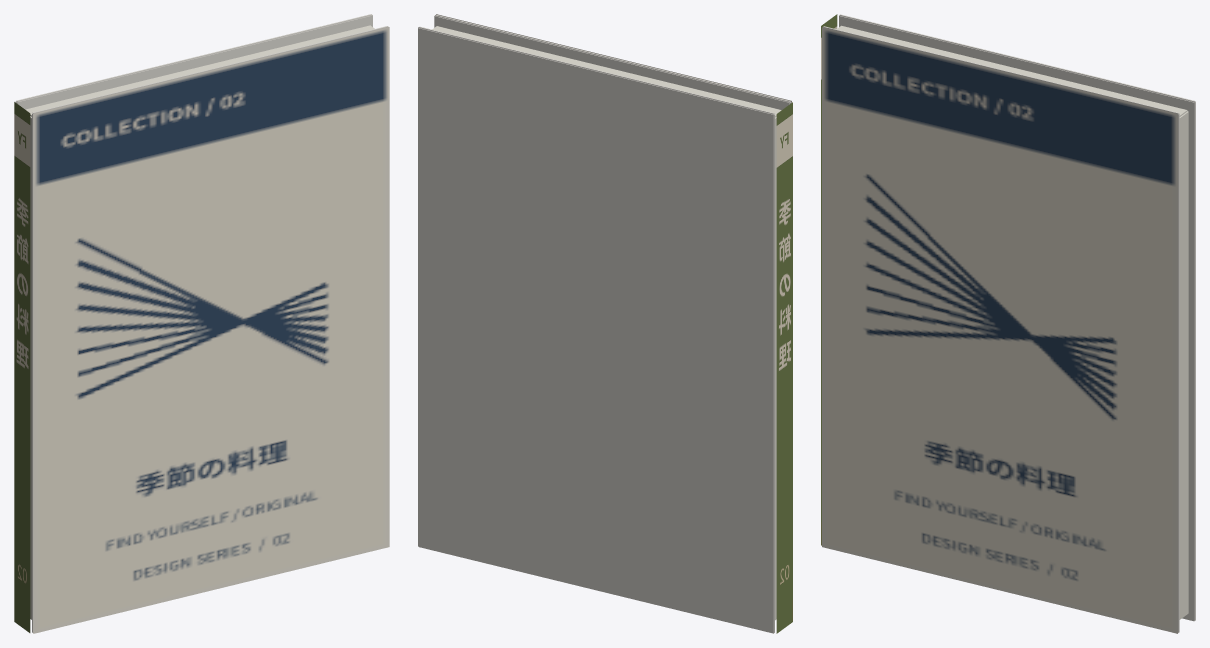
File: sku_v23_book_2.glb
The picture shows the model from 3 angles, left to right: view 1: azimuth 30°, elevation 25°; view 2: azimuth 150°, elevation 25°; view 3: azimuth 330°, elevation 25°; orthographic projection.
Parts seen in each view (by area): view 1: sku_v23_book_2_V23_original_editorial, sku_v23_book_2_V23_printed_genre_spines, sku_v23_book_2_Warm_white_coating, sku_v23_book_2_Paper_page_edges; view 2: sku_v23_book_2_Warm_white_coating, sku_v23_book_2_V23_printed_genre_spines, sku_v23_book_2_Paper_page_edges; view 3: sku_v23_book_2_V23_original_editorial, sku_v23_book_2_Warm_white_coating, sku_v23_book_2_Paper_page_edges, sku_v23_book_2_V23_printed_genre_spines.
Boxes of the visible parts, <box> form: sku_v23_book_2_V23_original_editorial: <box>33,27,389,633</box>; sku_v23_book_2_V23_printed_genre_spines: <box>14,102,30,632</box>; sku_v23_book_2_Warm_white_coating: <box>15,14,388,632</box>; sku_v23_book_2_Paper_page_edges: <box>25,25,374,619</box>; sku_v23_book_2_Warm_white_coating: <box>418,14,791,633</box>; sku_v23_book_2_V23_printed_genre_spines: <box>776,102,792,633</box>; sku_v23_book_2_Paper_page_edges: <box>432,26,781,620</box>; sku_v23_book_2_V23_original_editorial: <box>822,27,1177,633</box>; sku_v23_book_2_Warm_white_coating: <box>823,14,1195,632</box>; sku_v23_book_2_Paper_page_edges: <box>837,25,1188,619</box>; sku_v23_book_2_V23_printed_genre_spines: <box>821,14,837,545</box>.
Bounding box in the file's own units: 0.191 × 0.265 × 0.0168.
4 materials, 2 textured.
